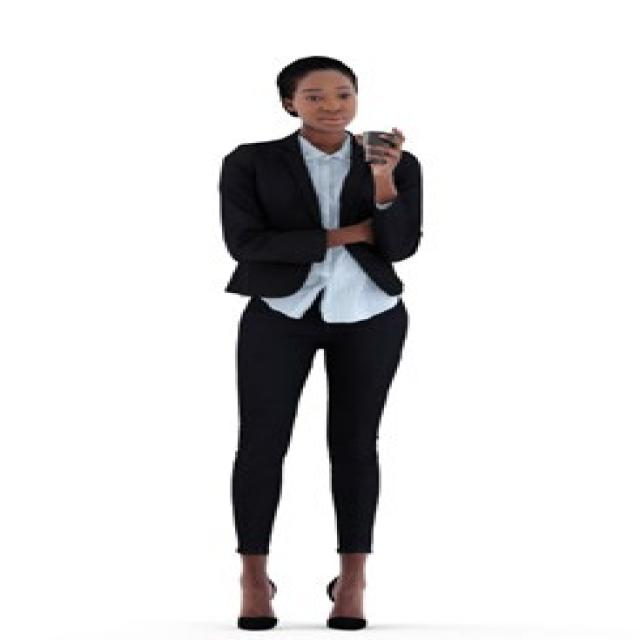standing: (217, 55, 427, 635)
